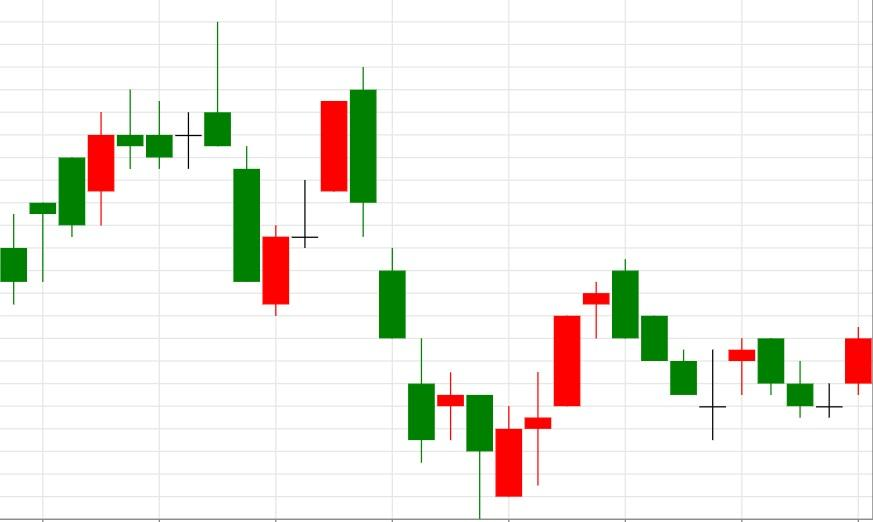bearish_engulfing_fall: (494, 260, 640, 498), (262, 66, 378, 316)
shooting_star_fall: (0, 21, 232, 305)
